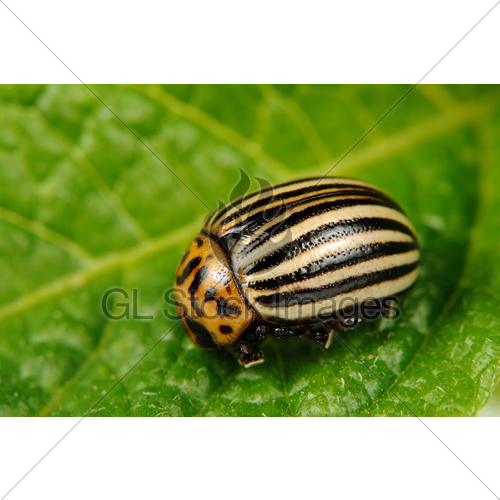hrosc: (167, 168, 429, 343)
